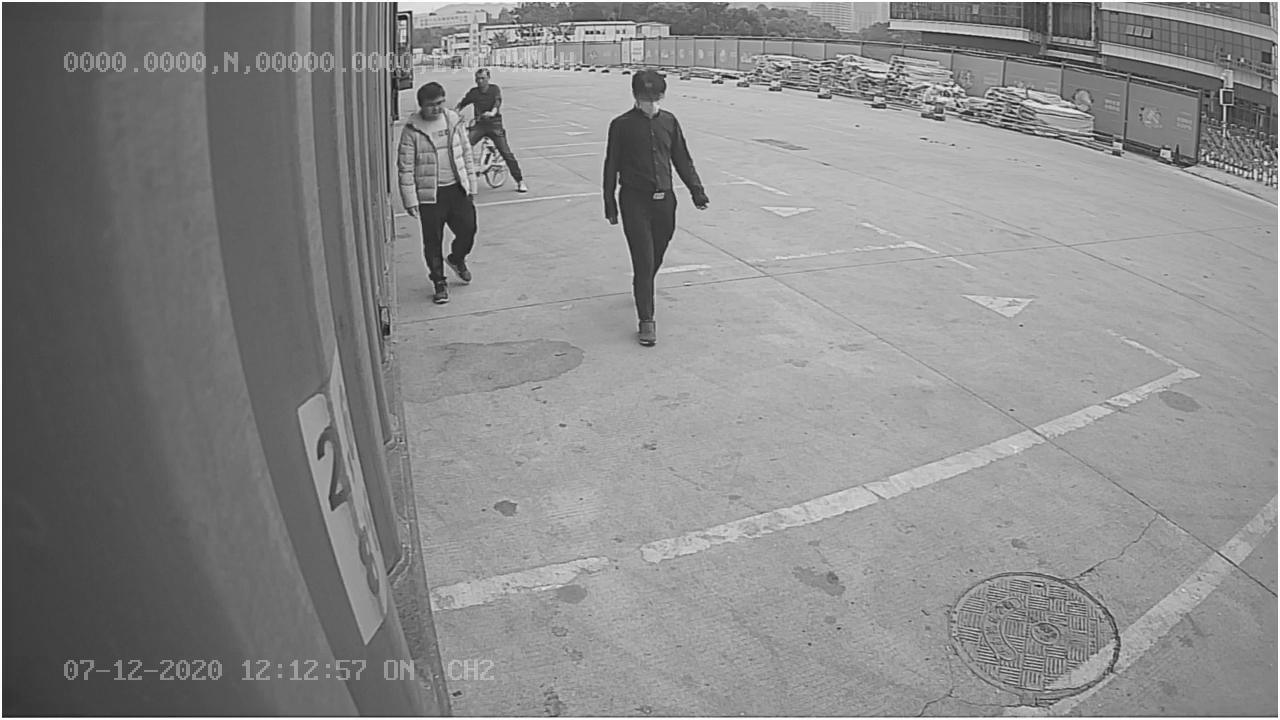person: (597, 64, 710, 346)
